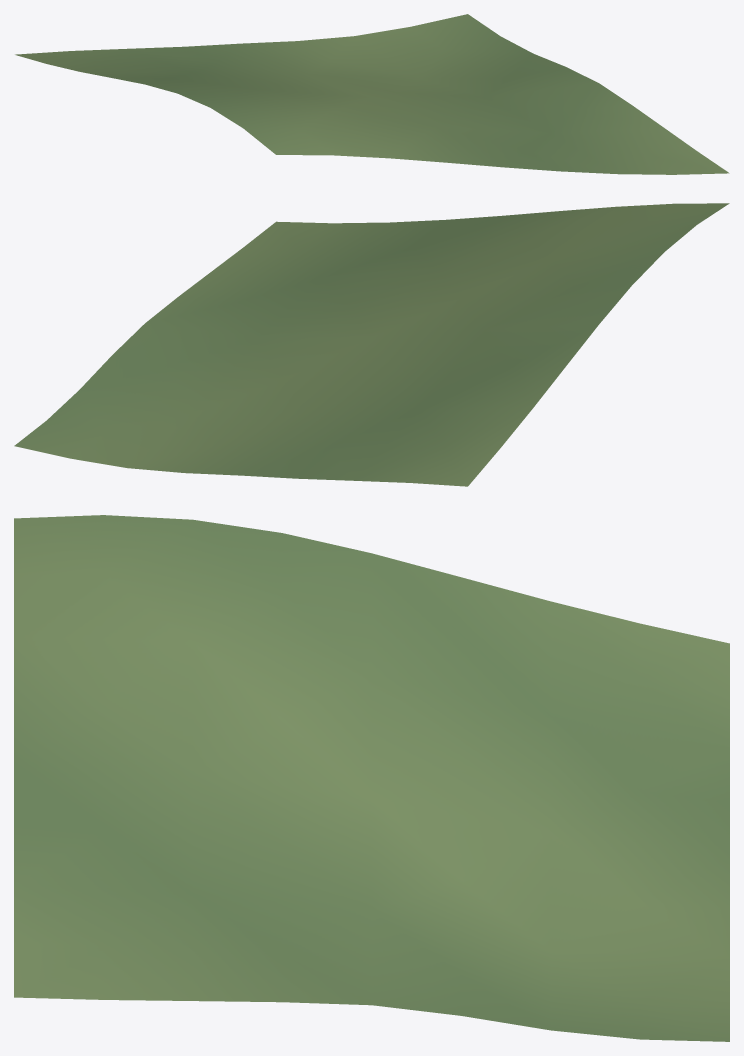
Rendered from Terrain-2-5-2.glb.
The picture shows the model from 3 angles, top to bottom: view 1: azimuth 30°, elevation 25°; view 2: azimuth 150°, elevation 25°; view 3: azimuth 270°, elevation 25°; orthographic projection. The views are drawn at different scales.
Visible parts, largest first — view 1: Terrain-2-5-2; view 2: Terrain-2-5-2; view 3: Terrain-2-5-2.
Boxes of the visible parts, left/top/right/bottom form: Terrain-2-5-2: left=15, top=14, right=729, bottom=174; Terrain-2-5-2: left=14, top=203, right=729, bottom=486; Terrain-2-5-2: left=14, top=515, right=729, bottom=1041.
Size of the model in its own units: 6 by 2.07 by 6.
